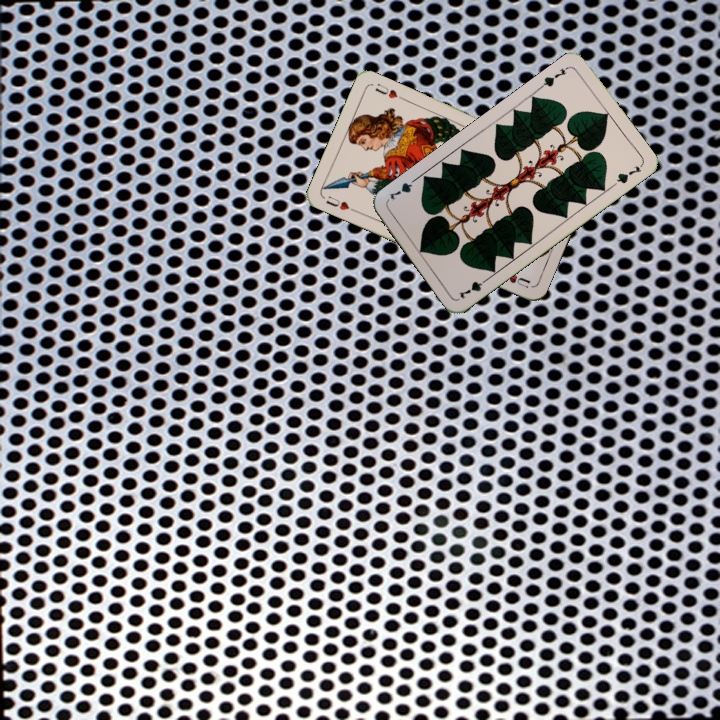G7: (455, 273, 492, 302), (536, 62, 572, 91)
HU: (322, 192, 359, 214)
